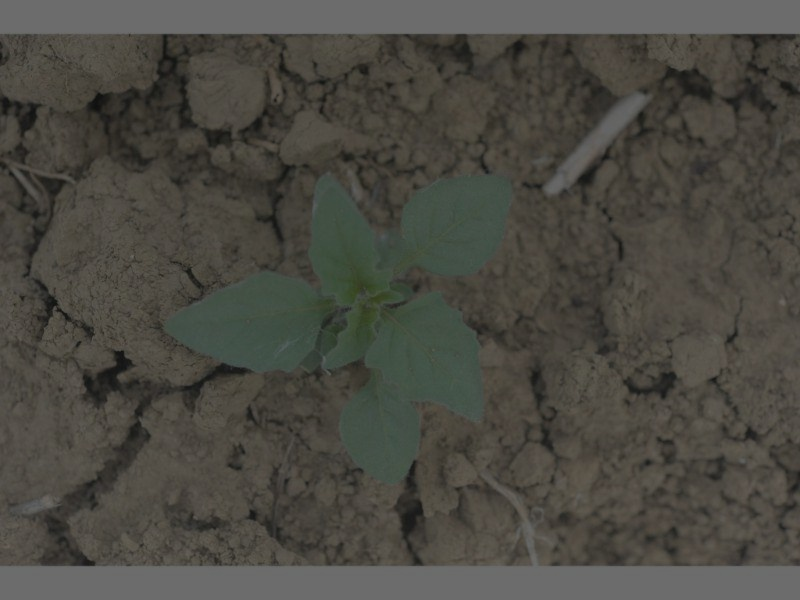nightshade: (166, 168, 511, 488)
